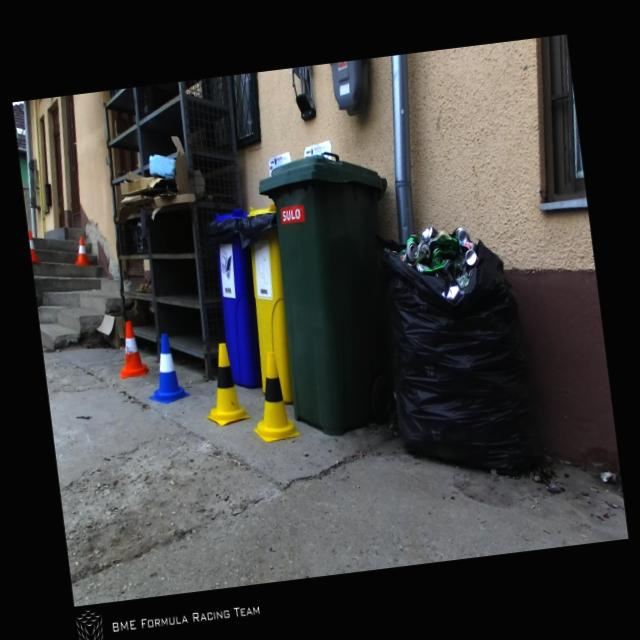blue_cone: (141, 331, 190, 405)
orange_cone: (112, 320, 148, 378), (72, 236, 90, 266), (28, 229, 40, 264)
yellow_cone: (244, 348, 300, 444), (198, 340, 251, 428)
